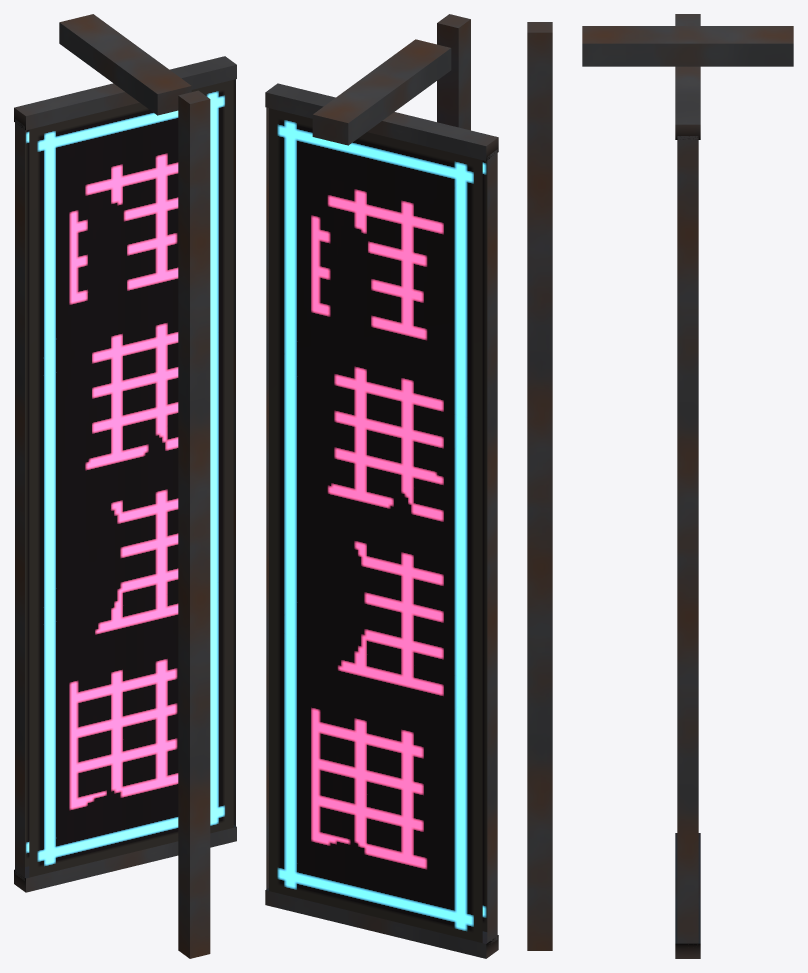
File: neon_sign.glb
3 renders of one model, left to right at view 1: azimuth 30°, elevation 25°; view 2: azimuth 150°, elevation 25°; view 3: azimuth 270°, elevation 25°, orthographic. The views are drawn at different scales.
Visible parts, largest first — view 1: neon_sign; view 2: neon_sign; view 3: neon_sign.
Boxes of the visible parts, <box> form: neon_sign: <box>14,14,236,958</box>; neon_sign: <box>265,14,498,958</box>; neon_sign: <box>527,14,793,958</box>.
Bounding box in the file's own units: 0.62 × 2.4 × 0.63.
Materials: 2 (2 with a texture image).
